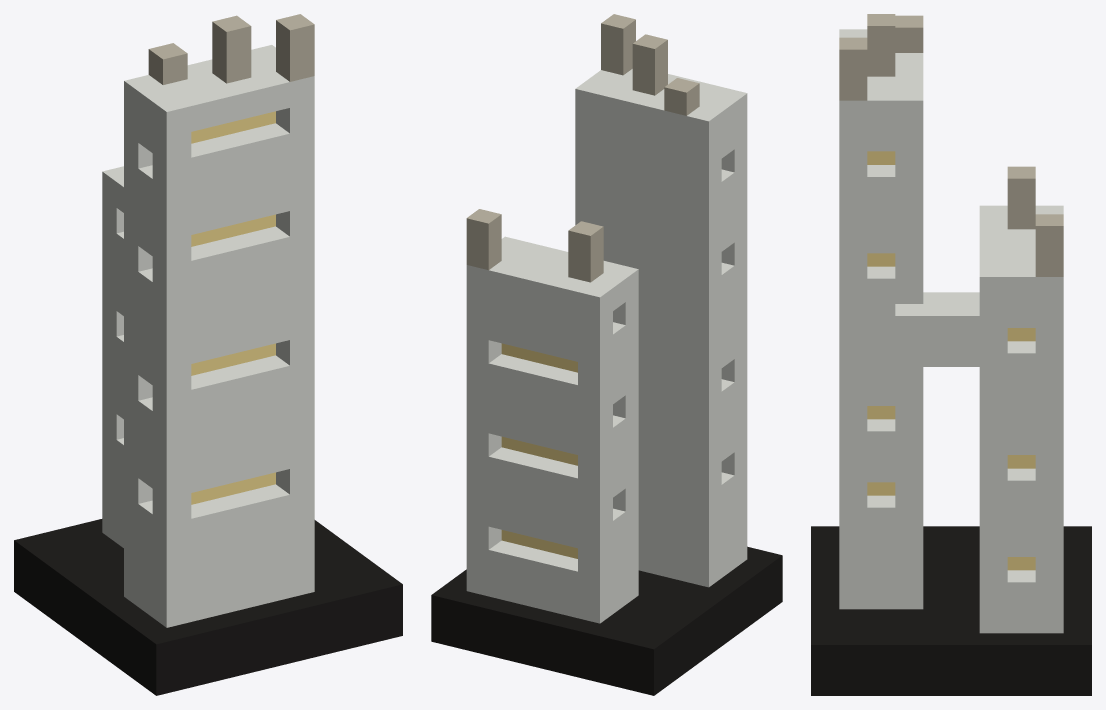
File: building10.obj
The picture shows the model from 3 angles, left to right: view 1: azimuth 30°, elevation 25°; view 2: azimuth 150°, elevation 25°; view 3: azimuth 270°, elevation 25°; orthographic projection. The views are drawn at different scales.
Size of the model in its own units: 1 by 2.4 by 1.
1 material, 1 textured.
